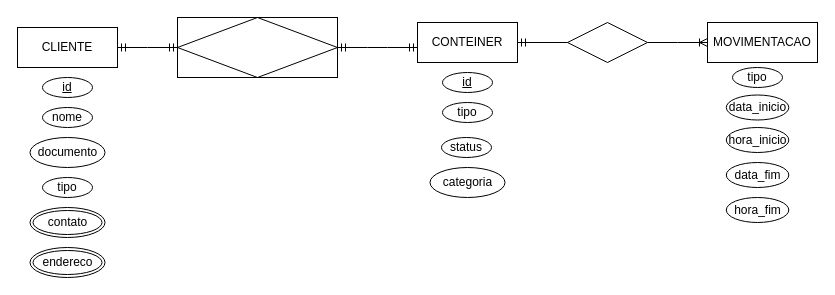
Some shapes in this 835 by 295 pixel diagram are drawn without their labels. The shapes that lost their labels are listed below. From the top down, each one's centre as x and y in pixels, then its label:
point (257, 47): CLIENTE_CONTAINER
point (607, 42): faz
